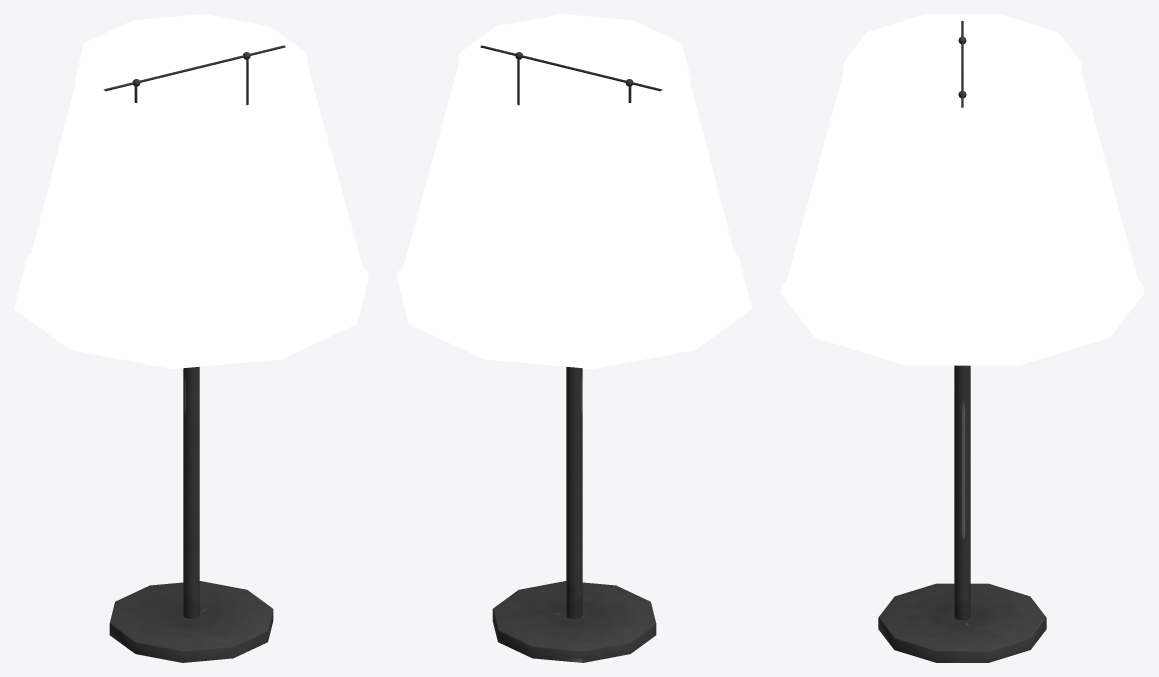
File: light_sidetable_lamp.fbx
3 renders of one model, left to right at view 1: azimuth 30°, elevation 25°; view 2: azimuth 150°, elevation 25°; view 3: azimuth 270°, elevation 25°, orthographic.
Visible parts, largest first — view 1: Cylinder.015; view 2: Cylinder.015; view 3: Cylinder.015.
Boxes of the visible parts, left/top/right/bottom form: Cylinder.015: left=14, top=14, right=368, bottom=662; Cylinder.015: left=397, top=14, right=751, bottom=662; Cylinder.015: left=780, top=14, right=1144, bottom=662.
Size of the model in its own units: 24.2 by 43.68 by 25.45.
